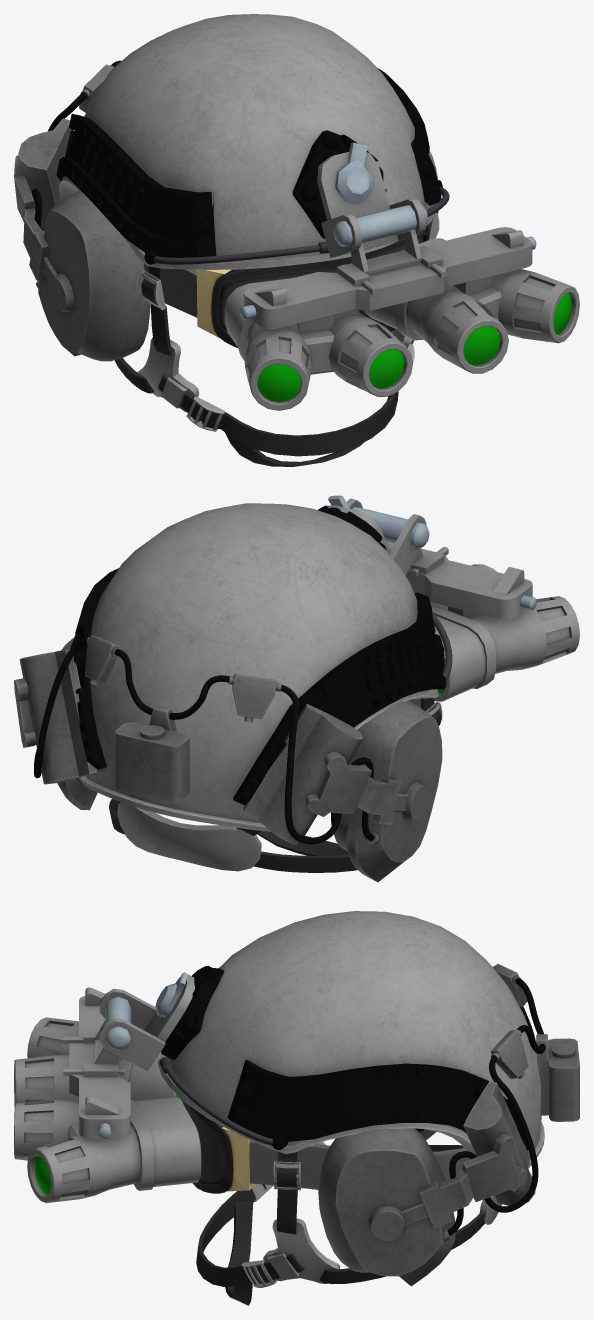
The model's file is tactical_modern_helmet_w_nvgs.glb.
3 renders of one model, top to bottom at view 1: azimuth 30°, elevation 25°; view 2: azimuth 150°, elevation 25°; view 3: azimuth 270°, elevation 25°, orthographic. The views are drawn at different scales.
Visible parts, largest first — view 1: Helmet_A01, HG_NVA01; view 2: Helmet_A01, HG_NVA01; view 3: Helmet_A01, HG_NVA01.
Part boxes in pixels (left/top/right/bottom): Helmet_A01: left=14, top=14, right=449, bottom=466; HG_NVA01: left=224, top=142, right=579, bottom=410; Helmet_A01: left=14, top=503, right=452, bottom=882; HG_NVA01: left=324, top=495, right=579, bottom=701; Helmet_A01: left=158, top=911, right=579, bottom=1305; HG_NVA01: left=14, top=972, right=201, bottom=1203.
Bounding box in the file's own units: 10.45 × 10.64 × 15.08.
5 materials, 4 textured.
